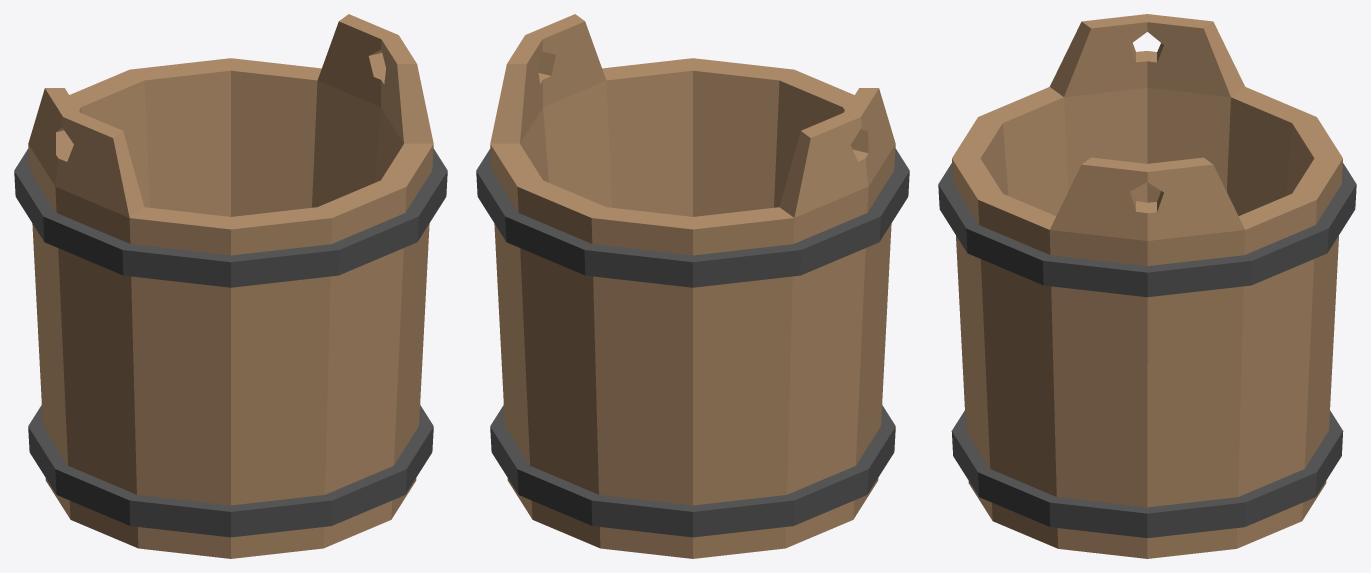
Rendered from Bucket-col.glb.
3 views of the same model, side by side, from view 1: azimuth 30°, elevation 25°; view 2: azimuth 150°, elevation 25°; view 3: azimuth 270°, elevation 25° (orthographic). The views are drawn at different scales.
Visible parts, largest first — view 1: Bucket-col; view 2: Bucket-col; view 3: Bucket-col.
Part boxes in pixels (x1=…): Bucket-col: x1=14, y1=14, x2=447, y2=558; Bucket-col: x1=476, y1=14, x2=909, y2=558; Bucket-col: x1=938, y1=14, x2=1356, y2=558.
Bounding box in the file's own units: 0.624 × 0.6424 × 0.624.
